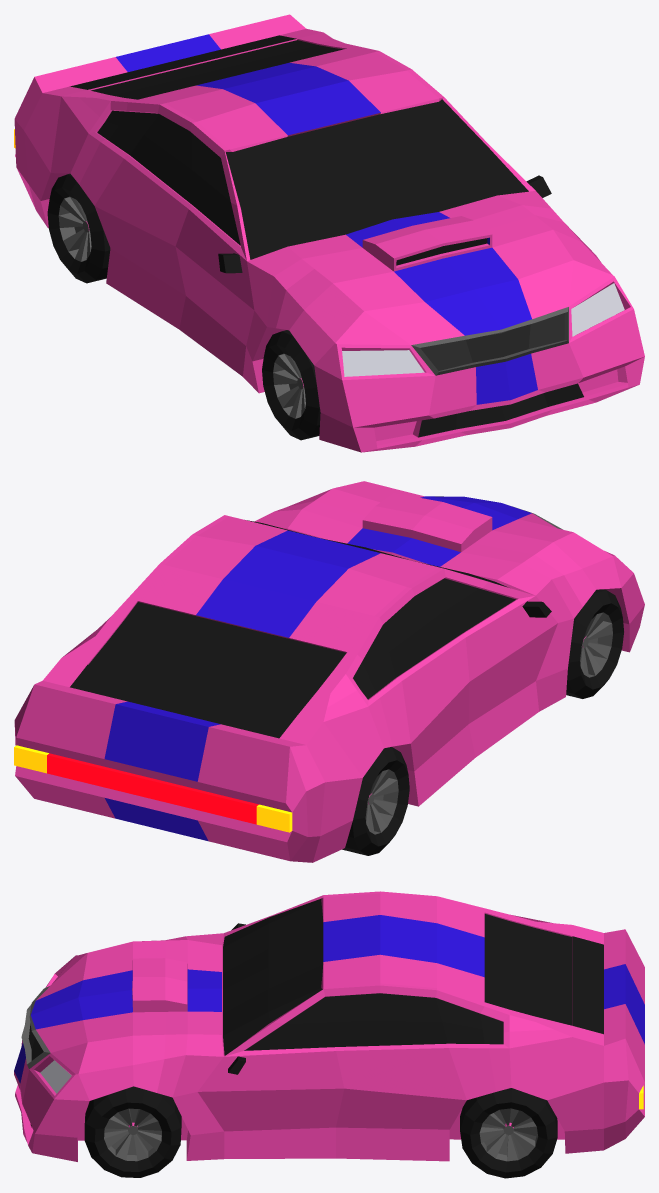
Rendered from Carv4.fbx.
The picture shows the model from 3 angles, top to bottom: view 1: azimuth 30°, elevation 25°; view 2: azimuth 150°, elevation 25°; view 3: azimuth 270°, elevation 25°; orthographic projection. The views are drawn at different scales.
Visible parts, largest first — view 1: Body, FrontRightWheel, RearRightWheel; view 2: Body, FrontRightWheel, RearRightWheel; view 3: Body, FrontLeftWheel, RearLeftWheel.
Part boxes in pixels (bbox=[...]): Body: bbox=[14, 14, 644, 452]; FrontRightWheel: bbox=[262, 330, 320, 440]; RearRightWheel: bbox=[47, 173, 110, 283]; Body: bbox=[14, 481, 644, 862]; FrontRightWheel: bbox=[566, 589, 623, 698]; RearRightWheel: bbox=[342, 747, 409, 855]; Body: bbox=[14, 891, 644, 1161]; FrontLeftWheel: bbox=[84, 1086, 181, 1177]; RearLeftWheel: bbox=[460, 1088, 557, 1178].
Size of the model in its own units: 232 by 139 by 443.
